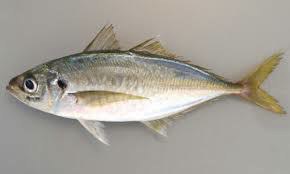azi: (4, 31, 283, 124)
